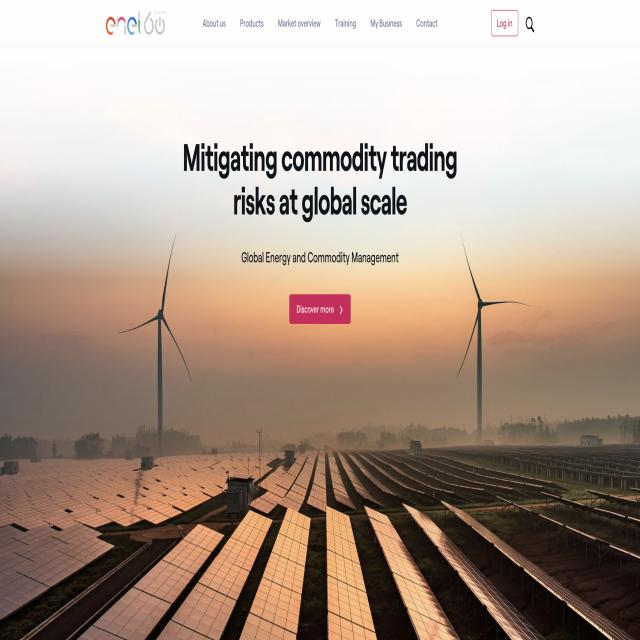Logo: (103, 2, 174, 49)
Navigation: (200, 10, 456, 43)
